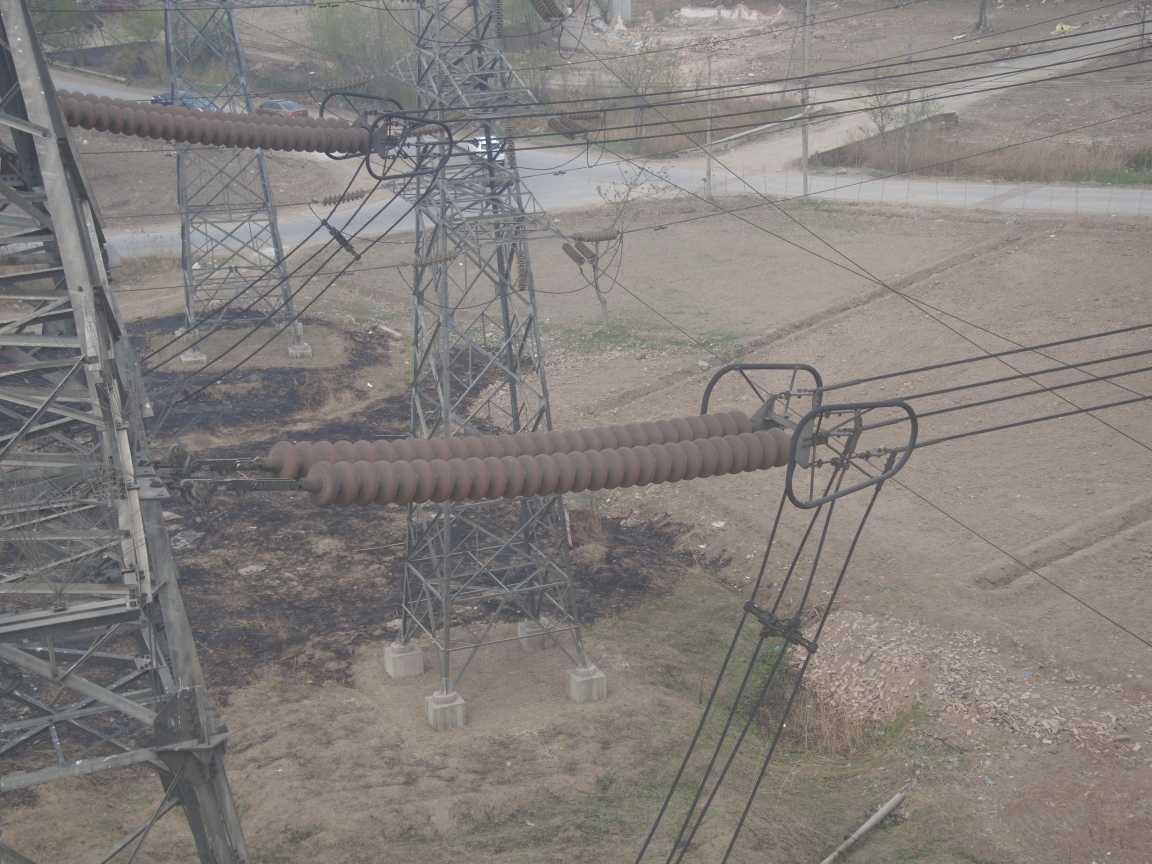insulator: (227, 403, 803, 510), (57, 82, 377, 154)
